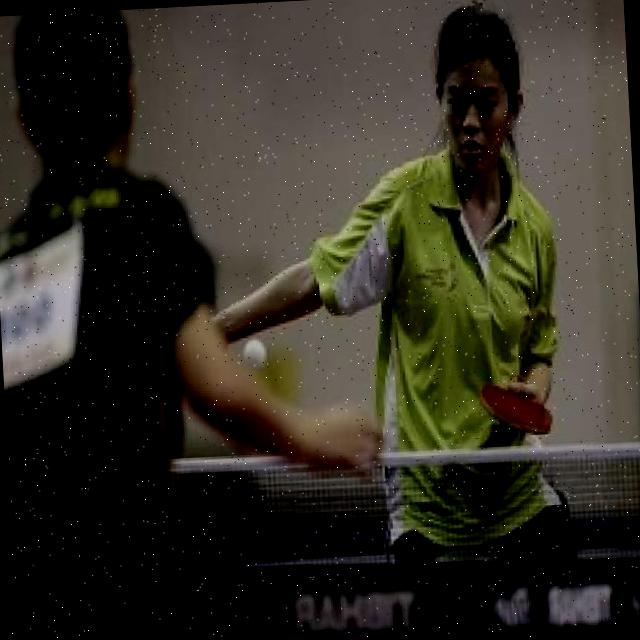ping-pong-ball: (239, 338, 269, 373)
